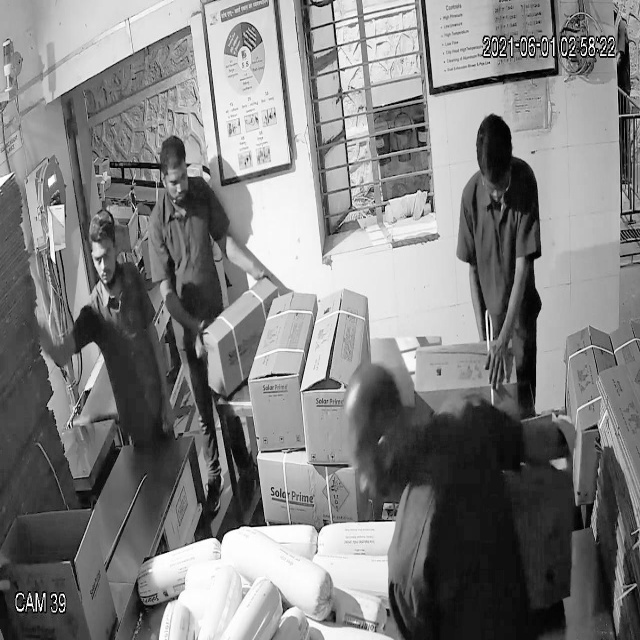Sin_gafas: (87, 240, 120, 273)
